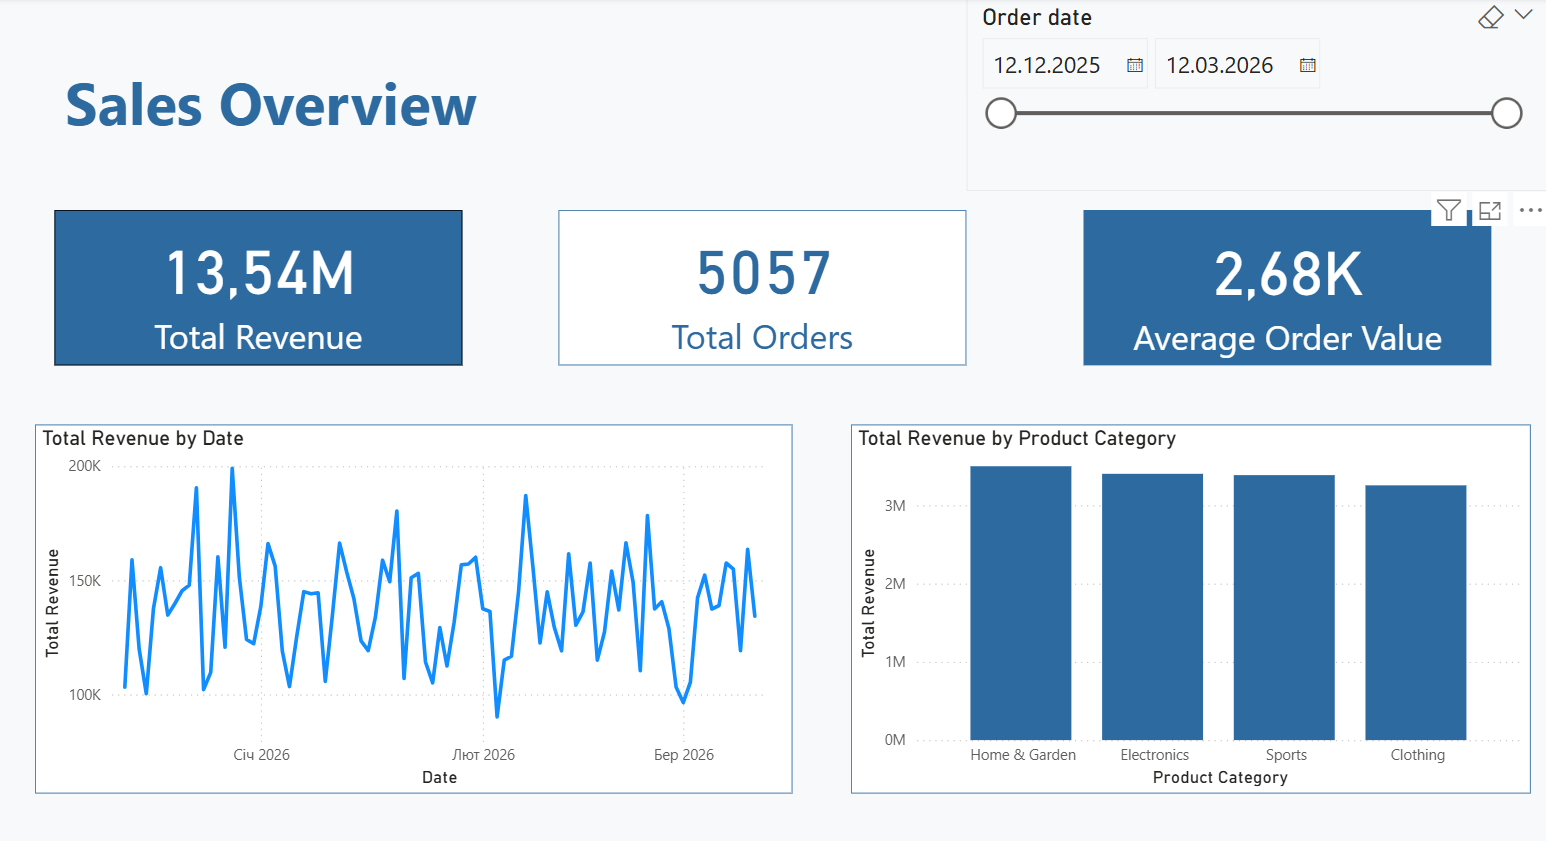

The page's visual inventory and layout, read from the dashboard file:
{"tool":"powerbi","page":{"name":" Sales Overview","canvas":[1280,720],"ordinal":0},"visuals":[{"type":"card","fields":{"Values":["_Measures.Total Revenue"]},"box":[48,176,336,128],"z":0},{"type":"textbox","box":[48,48,432,96],"z":1000},{"type":"card","fields":{"Values":["_Measures.Total Orders"]},"box":[464,176,336,128],"z":2000},{"type":"card","fields":{"Values":["_Measures.Average Order Value"]},"box":[896,176,336,128],"z":3000},{"type":"lineChart","title":"Total Revenue by Date","fields":{"Y":["_Measures.Total Revenue"],"Category":["DIM_DATE.FULL_DATE.Variation.Date Hierarchy.Year","DIM_DATE.FULL_DATE.Variation.Date Hierarchy.Quarter","DIM_DATE.FULL_DATE.Variation.Date Hierarchy.Month","DIM_DATE.FULL_DATE.Variation.Date Hierarchy.Day"]},"box":[32,352,624,304],"z":4000},{"type":"columnChart","fields":{"Y":["_Measures.Total Revenue"],"Category":["DIM_PRODUCT.PRODUCT_CATEGORY"]},"box":[704,352,560,304],"z":5000},{"type":"slicer","fields":{"Values":["FACT_ORDERS.ORDER_DATE"]},"box":[800,0,480,160],"z":6000}]}

Visuals, with their boxes on the page's 1280x720 design canvas (x1, y1, x2, y2). These are canvas units, not pixel positions in the 1546x841 screenshot, which may show the page scaled, cropped or inside an application window:
card - _Measures.Total Revenue: (left=48, top=176, right=384, bottom=304)
textbox: (left=48, top=48, right=480, bottom=144)
card - _Measures.Total Orders: (left=464, top=176, right=800, bottom=304)
card - _Measures.Average Order Value: (left=896, top=176, right=1232, bottom=304)
"Total Revenue by Date" lineChart: (left=32, top=352, right=656, bottom=656)
columnChart - _Measures.Total Revenue x DIM_PRODUCT.PRODUCT_CATEGORY: (left=704, top=352, right=1264, bottom=656)
slicer - FACT_ORDERS.ORDER_DATE: (left=800, top=0, right=1280, bottom=160)
